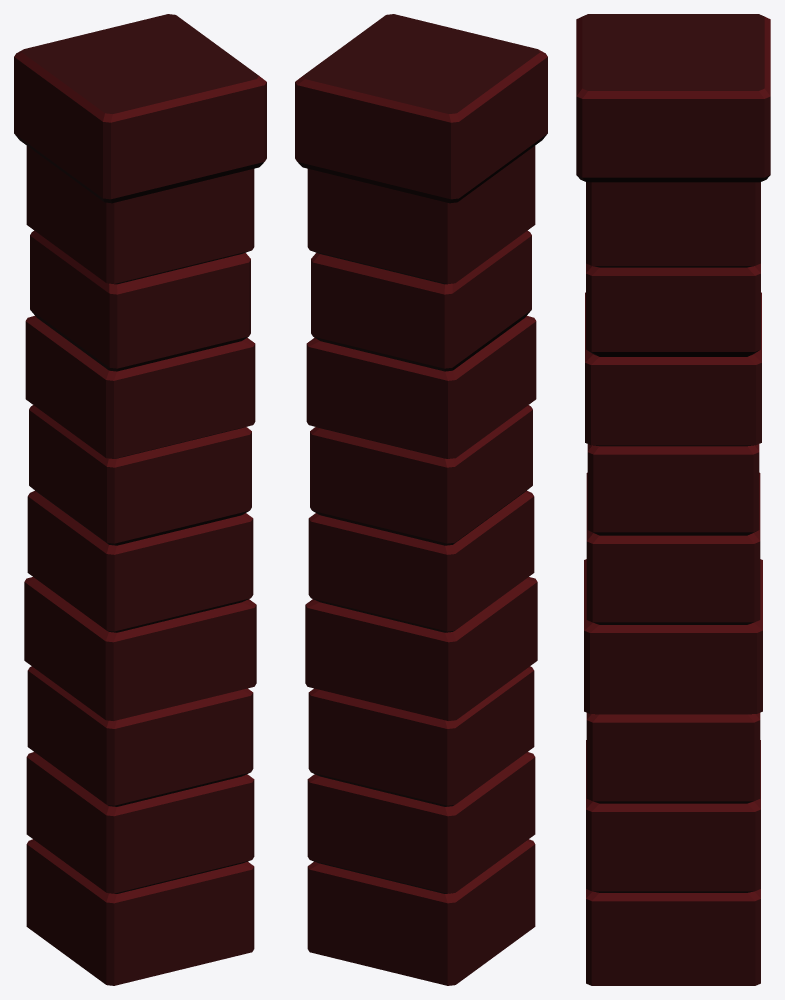
Rendered from Pillar_Main.FBX.
3 renders of one model, left to right at view 1: azimuth 30°, elevation 25°; view 2: azimuth 150°, elevation 25°; view 3: azimuth 270°, elevation 25°, orthographic. The views are drawn at different scales.
Visible parts, largest first — view 1: Box007; view 2: Box007; view 3: Box007.
Part boxes in pixels (box(x1,y1,x2,y2)): Box007: box(14, 14, 266, 985); Box007: box(295, 14, 547, 985); Box007: box(576, 14, 770, 985).
Size of the model in its own units: 98.51 by 502 by 98.51.
